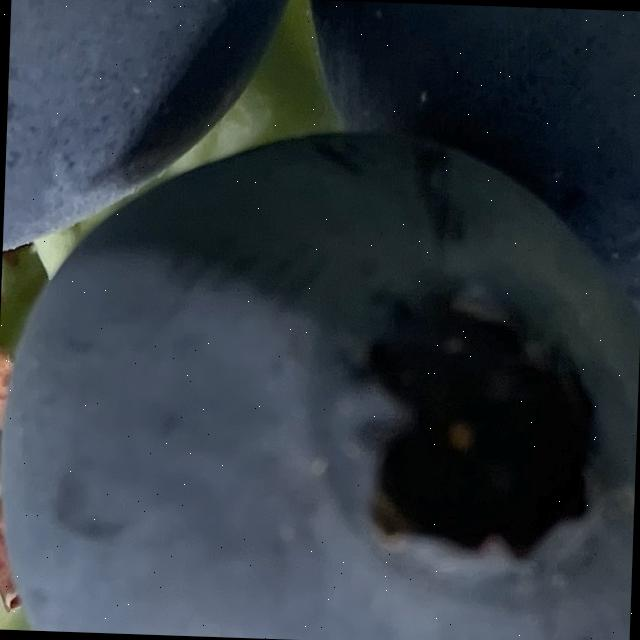Blueberries: (0, 117, 640, 640), (1, 0, 317, 283)
